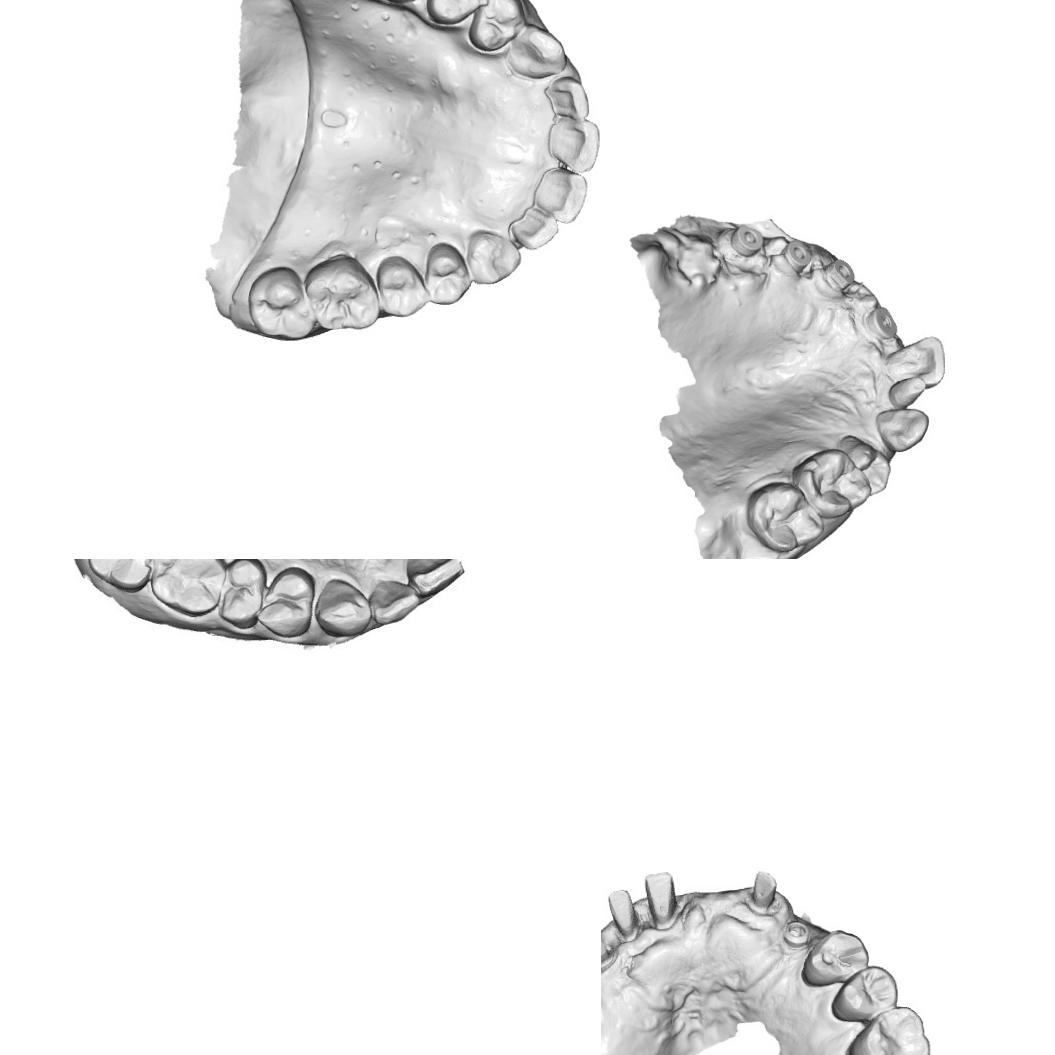canine: (506, 20, 570, 81), (314, 578, 374, 640), (466, 229, 522, 287), (875, 406, 930, 454)
crown: (642, 870, 680, 931), (606, 888, 642, 943), (744, 868, 779, 916), (601, 922, 613, 977)
implant: (863, 304, 898, 342), (730, 222, 764, 258), (782, 239, 813, 275), (824, 256, 856, 290), (780, 920, 811, 950)
incisor: (545, 112, 601, 176), (885, 335, 947, 390), (534, 166, 588, 226), (406, 559, 464, 603), (368, 581, 420, 628), (510, 208, 561, 252), (545, 72, 591, 119), (888, 376, 926, 408)
molar: (790, 446, 872, 520), (745, 480, 825, 554), (305, 253, 380, 331), (244, 264, 316, 343), (144, 559, 224, 619), (844, 1005, 931, 1055), (82, 559, 159, 591)
premolar: (253, 566, 317, 640), (800, 928, 870, 988), (830, 964, 898, 1023), (217, 559, 269, 632), (374, 254, 428, 318), (466, 0, 527, 53), (421, 241, 470, 306), (849, 442, 892, 496), (425, 0, 489, 26)
